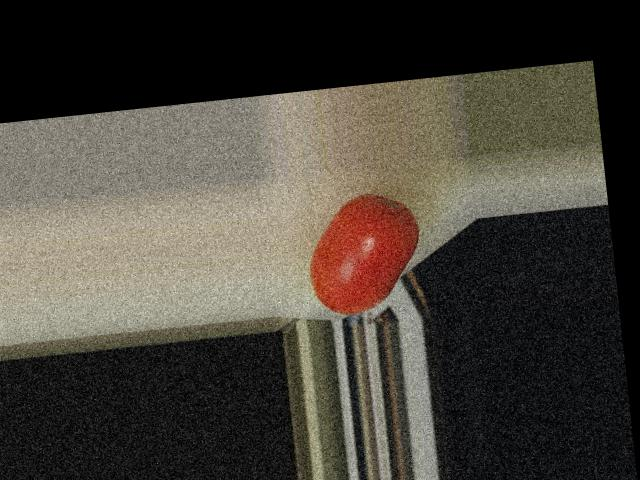tomato: (302, 189, 426, 318)
